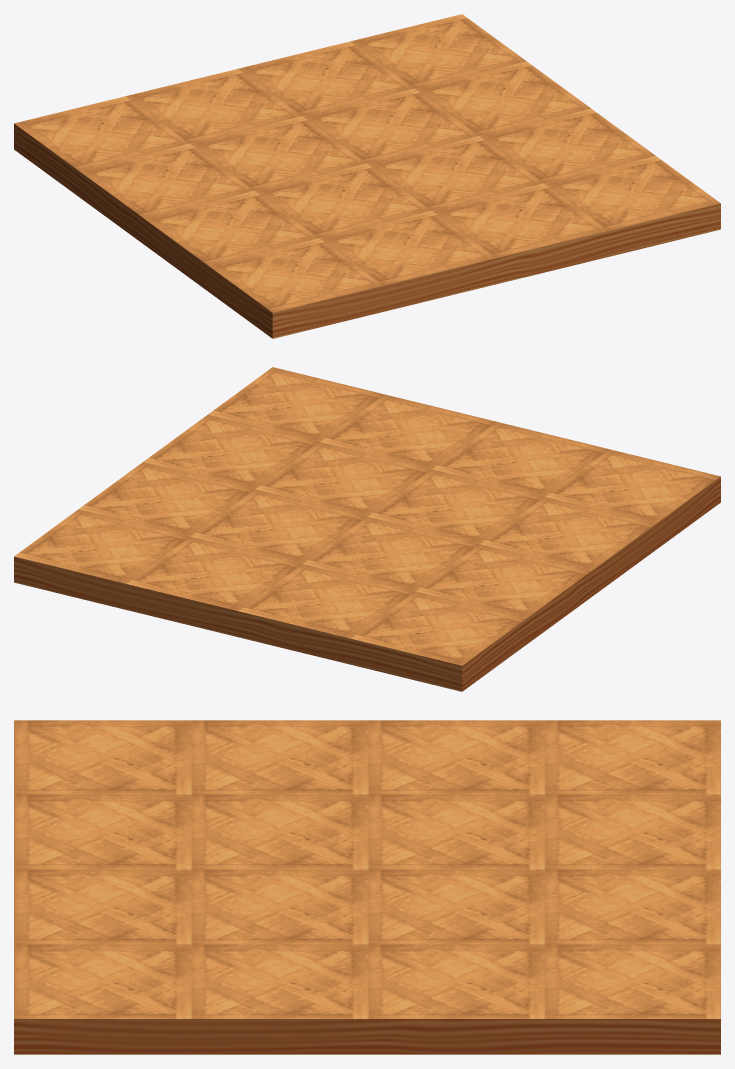
File: corridor_floor_tile.FBX
3 renders of one model, top to bottom at view 1: azimuth 30°, elevation 25°; view 2: azimuth 150°, elevation 25°; view 3: azimuth 270°, elevation 25°, orthographic. The views are drawn at different scales.
Parts seen in each view (by area): view 1: Box001; view 2: Box001; view 3: Box001.
Boxes of the visible parts, <box> form: Box001: <box>14,14,720,338</box>; Box001: <box>14,367,720,691</box>; Box001: <box>14,720,720,1054</box>.
Bounding box in the file's own units: 1800 × 100 × 1800.
1 material, 1 textured.
